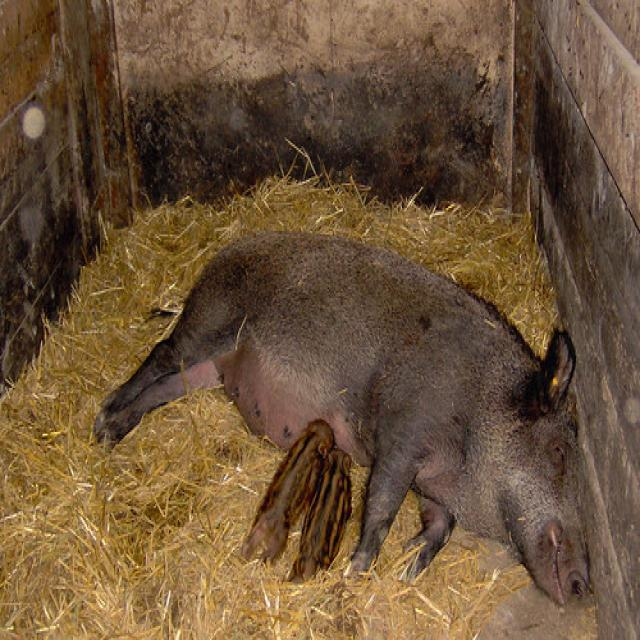boar: (85, 208, 607, 622), (226, 396, 338, 569), (288, 443, 352, 588)
